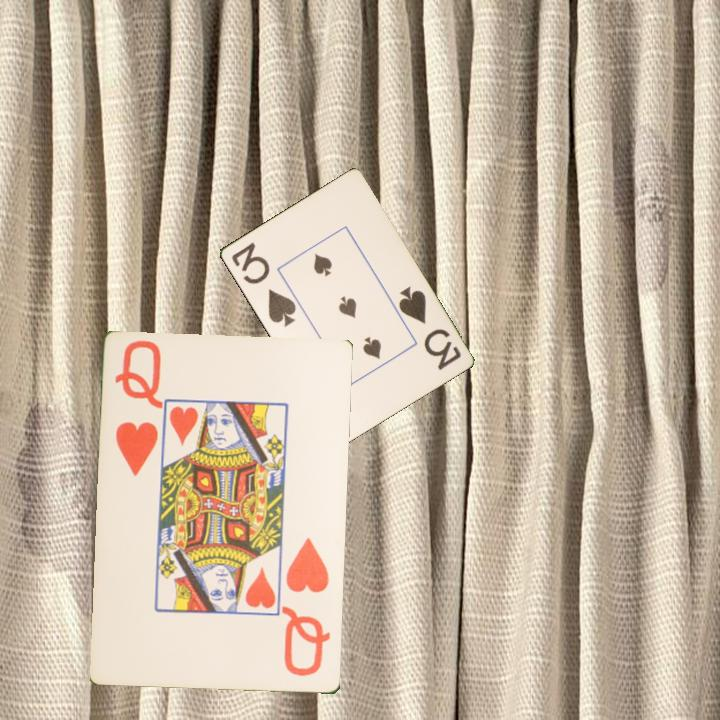3s: (227, 238, 299, 330), (394, 282, 464, 373)
Qh: (280, 535, 334, 679), (112, 337, 164, 480)
